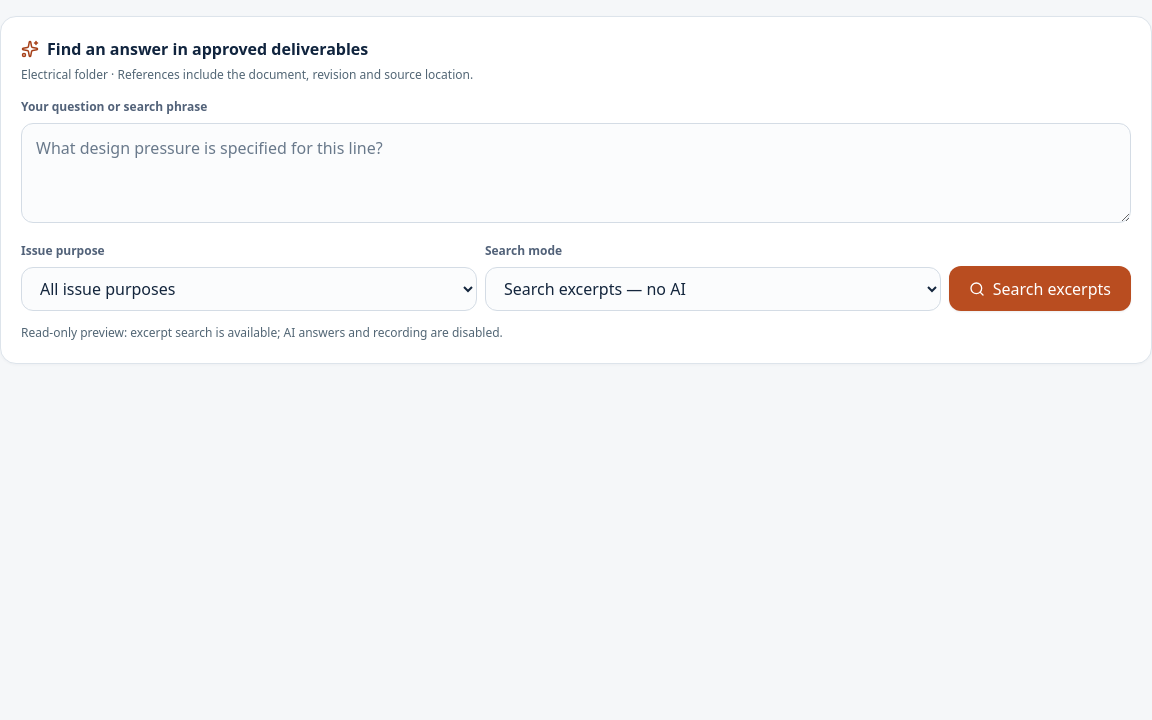
Test: inline approved deliverable questions › uses GET-only excerpt search in read-only previews and never enables an AI action
Expected: the dropdown labelled "Search mode" is disabled, [485,267,941,311]
In the text box labelled "Your question or search phrase": point(576, 173) [21,123,1131,223], type "What is the design pressure?"
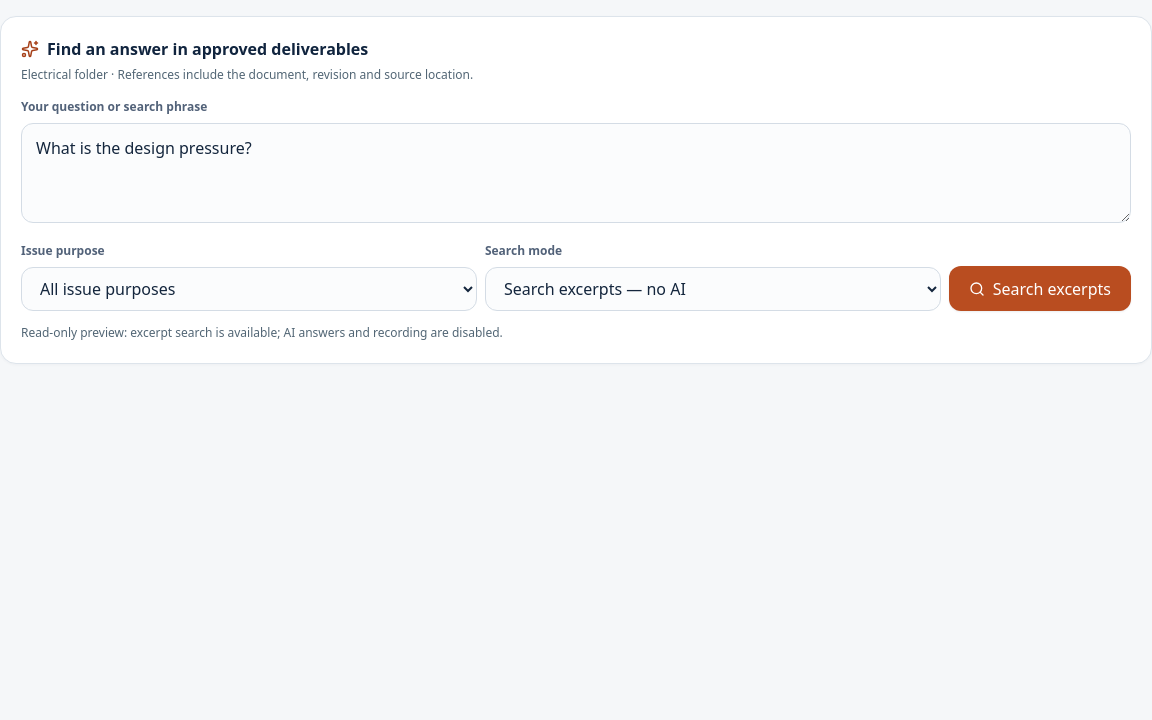
Submit the form named "Search approved deliverable evidence", box [21,97,1131,343]
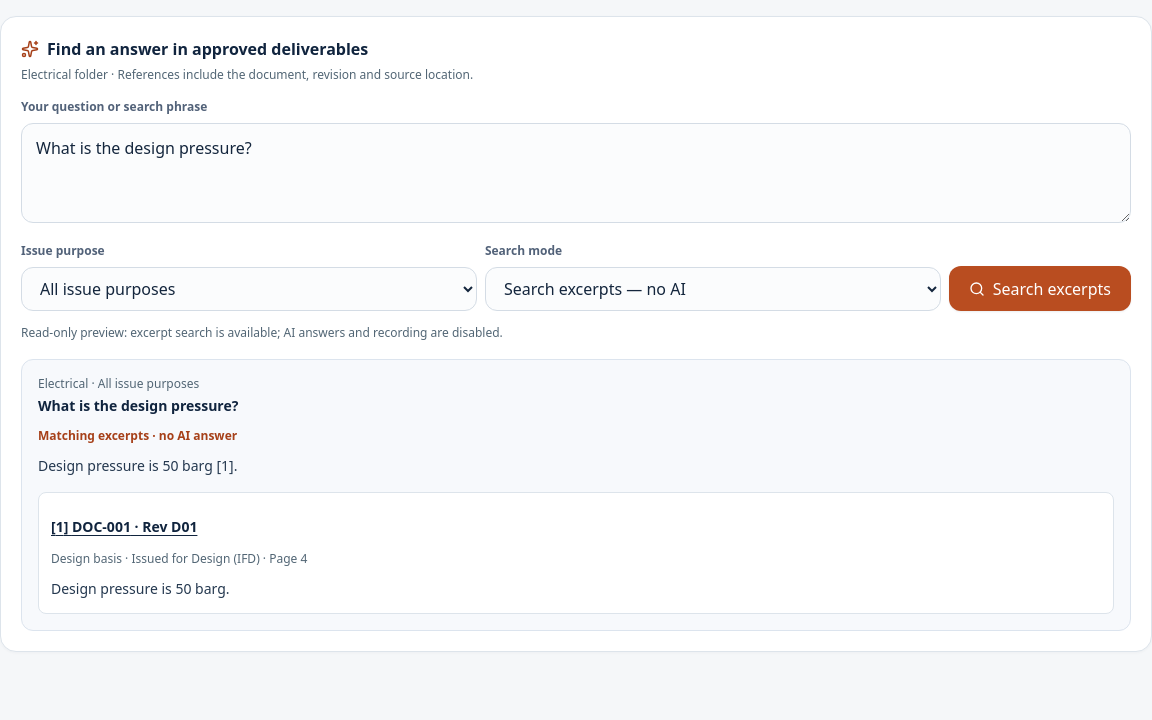
Now the element named "Approved deliverable search result" is shown, box [21,359,1131,631]
